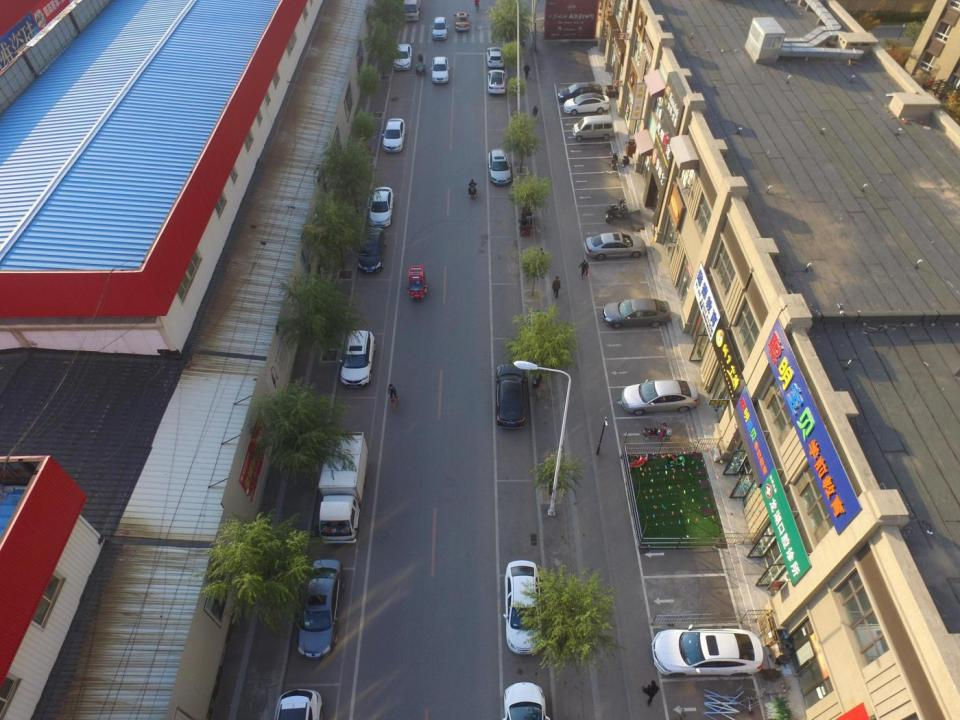car: (652, 628, 765, 679), (298, 560, 344, 660), (504, 560, 545, 656), (622, 380, 699, 415), (339, 330, 375, 391), (602, 297, 671, 328), (494, 364, 526, 429), (584, 231, 646, 261), (504, 682, 550, 719), (275, 689, 324, 719), (358, 226, 384, 274), (370, 186, 395, 227), (563, 93, 610, 112), (488, 148, 511, 186), (559, 84, 601, 102), (384, 119, 406, 152), (486, 69, 507, 95), (431, 56, 450, 84), (393, 43, 412, 69), (432, 16, 448, 40), (486, 48, 505, 67), (456, 12, 470, 31)
truck: (317, 431, 368, 543), (402, 0, 420, 23)
van: (569, 115, 615, 139)
